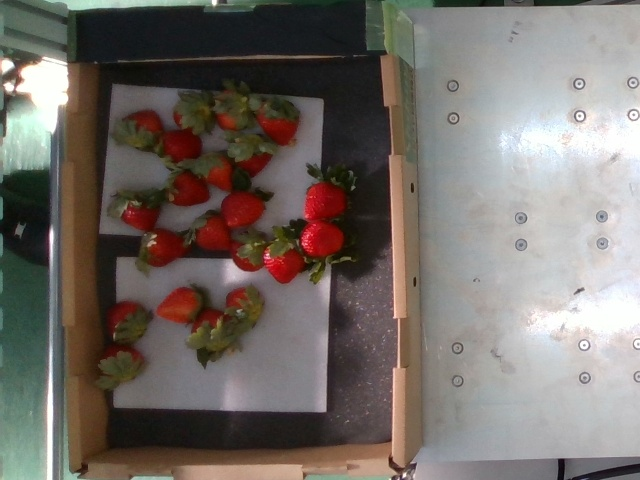strawberry: (254, 100, 298, 146), (304, 177, 348, 222), (141, 228, 189, 268), (228, 138, 273, 179), (264, 240, 304, 285), (301, 221, 346, 260), (122, 110, 164, 150), (193, 212, 235, 252), (106, 300, 145, 343), (164, 128, 203, 169), (101, 342, 143, 380), (119, 195, 161, 232), (158, 288, 201, 324), (222, 192, 265, 227), (165, 173, 210, 206), (215, 89, 249, 132), (195, 153, 232, 192), (194, 308, 230, 348), (173, 100, 212, 134), (225, 289, 263, 323), (233, 236, 267, 273)
